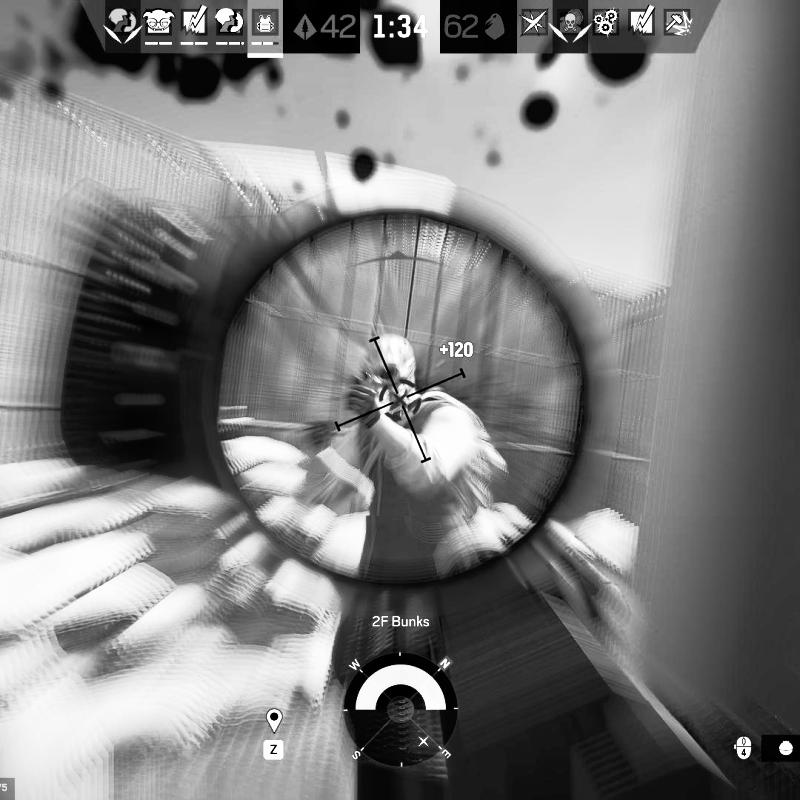Character: (297, 329, 501, 577)
Head: (359, 332, 422, 422)
